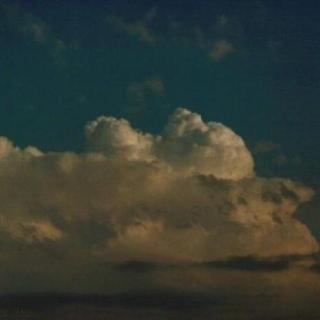Stratus: (0, 74, 320, 320)
